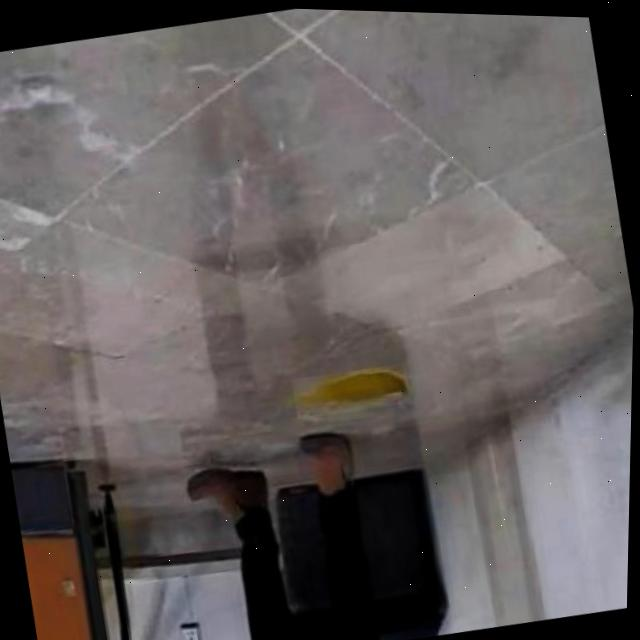spillage: (296, 364, 410, 415)
